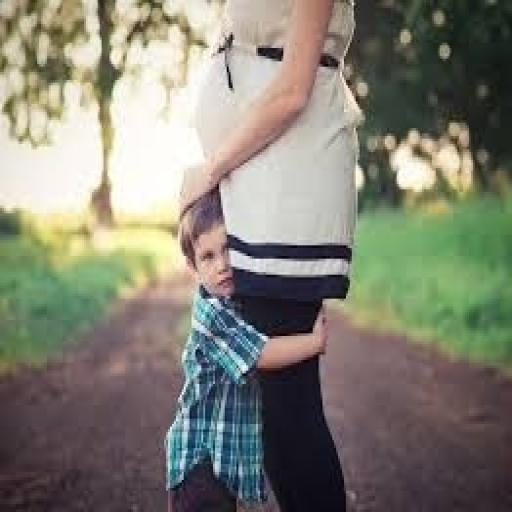hugging: (162, 184, 332, 509)
